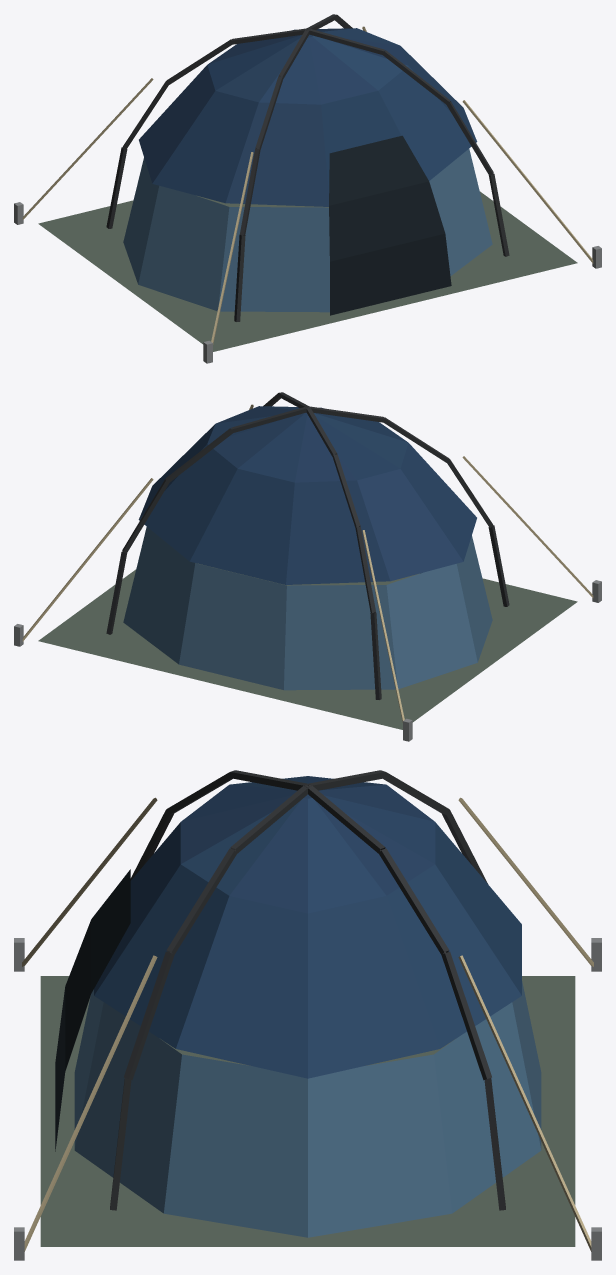
Rendered from ns_tent_dome_lod1.glb.
3 views of the same model, one above another, from view 1: azimuth 30°, elevation 25°; view 2: azimuth 150°, elevation 25°; view 3: azimuth 270°, elevation 25° (orthographic). The views are drawn at different scales.
Visible parts, largest first — view 1: ns_tent_dome_lod1; view 2: ns_tent_dome_lod1; view 3: ns_tent_dome_lod1.
Part boxes in pixels (<box>): ns_tent_dome_lod1: <box>14,14,601,363</box>; ns_tent_dome_lod1: <box>14,392,601,741</box>; ns_tent_dome_lod1: <box>14,770,601,1260</box>.
Bounding box in the file's own units: 2.6 × 1.36 × 2.2.
